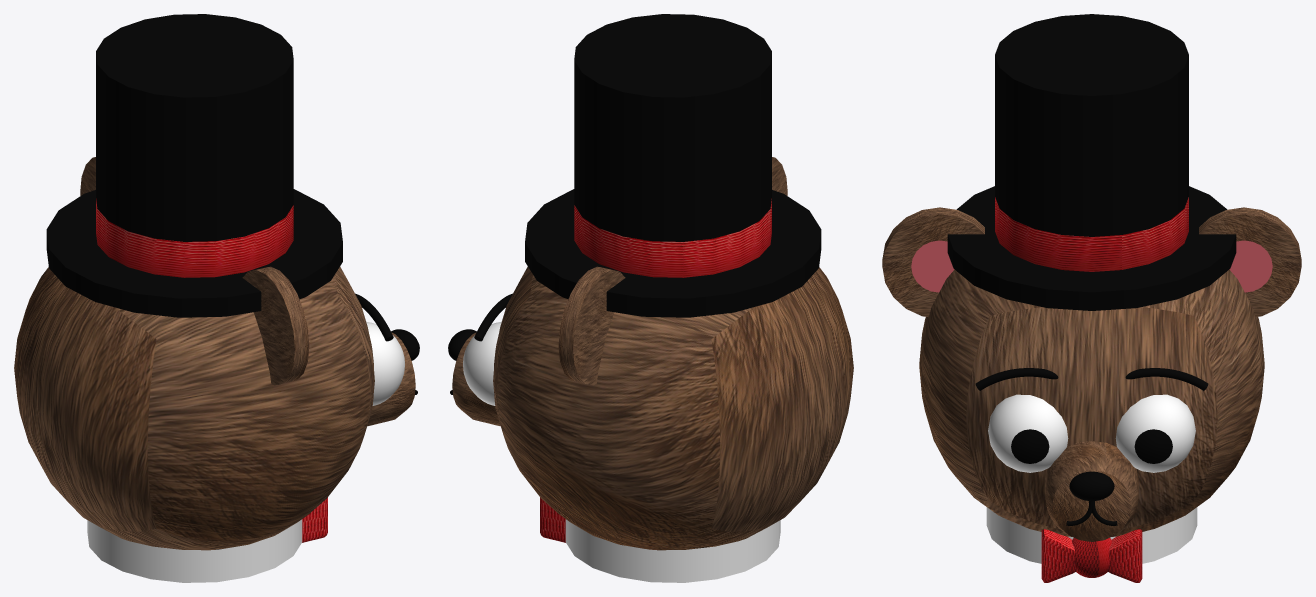
Rendered from cha_25.glb.
3 renders of one model, left to right at view 1: azimuth 30°, elevation 25°; view 2: azimuth 150°, elevation 25°; view 3: azimuth 270°, elevation 25°, orthographic. The views are drawn at different scales.
Visible parts, largest first — view 1: Object_3, Object_11, Object_8, Object_9, Object_2; view 2: Object_3, Object_11, Object_8, Object_9, Object_2; view 3: Object_3, Object_11, Object_8, Object_2, Object_9, Object_5, Object_7, Object_6, Object_4.
Part boxes in pixels (x1,y1,x2,y2): Object_3: (14,157,415,550); Object_11: (46,14,342,317); Object_8: (96,198,327,542); Object_9: (87,519,302,582); Object_2: (366,321,404,405); Object_3: (452,157,853,550); Object_11: (525,14,821,317); Object_8: (540,198,771,542); Object_9: (565,519,780,582); Object_2: (463,321,501,405); Object_3: (882,207,1301,541); Object_11: (947,14,1236,310); Object_8: (995,197,1188,582); Object_2: (988,394,1195,472); Object_9: (986,507,1197,563); Object_5: (911,240,1272,292); Object_7: (1011,429,1172,463); Object_6: (975,368,1208,390); Object_4: (1066,471,1117,525).
Size of the model in its own units: 4.34 by 5.43 by 4.32.
Materials: 10 (2 with a texture image).
